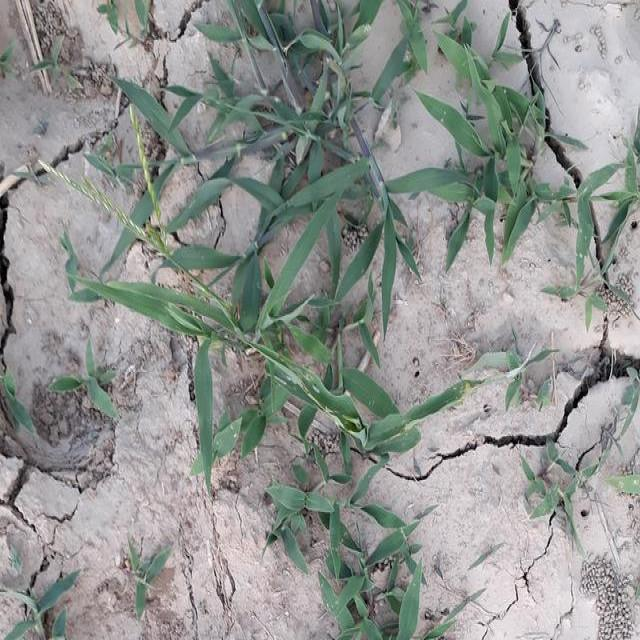weed: (106, 16, 426, 640), (416, 61, 628, 276)
